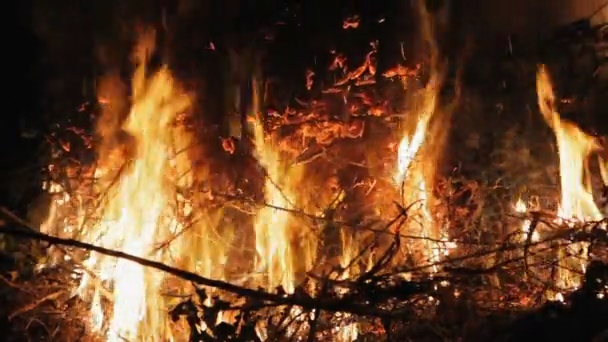fire: (34, 73, 194, 342), (383, 82, 455, 264), (535, 70, 608, 224), (248, 128, 300, 295), (556, 240, 587, 287), (509, 199, 539, 245), (333, 247, 355, 287), (328, 317, 358, 342)
